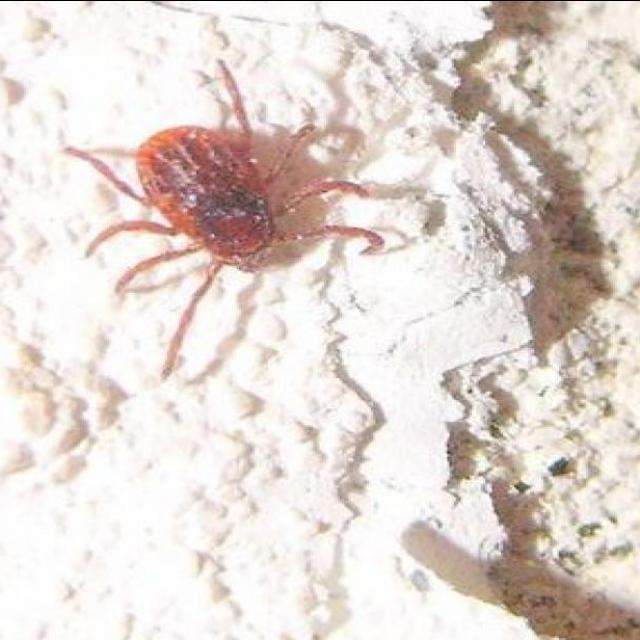Rhipicephalus Sanguineus-F: (62, 57, 411, 381)
